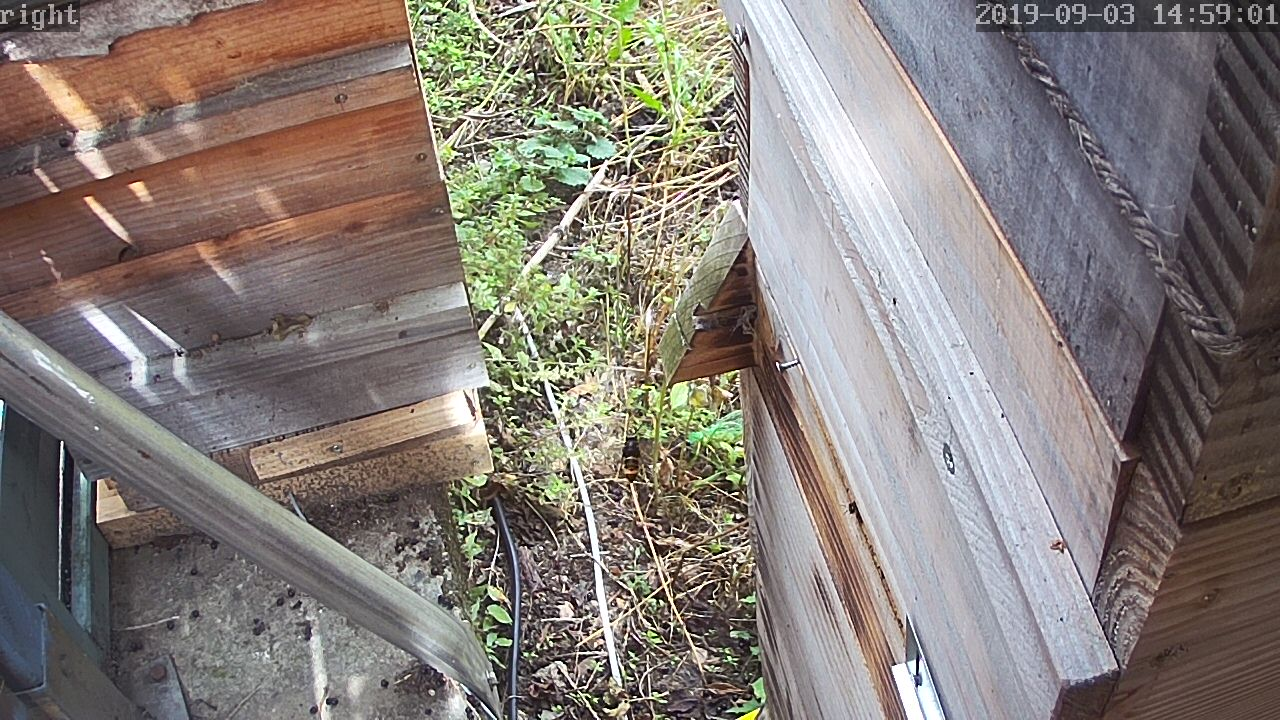hornet: (616, 426, 647, 479)
